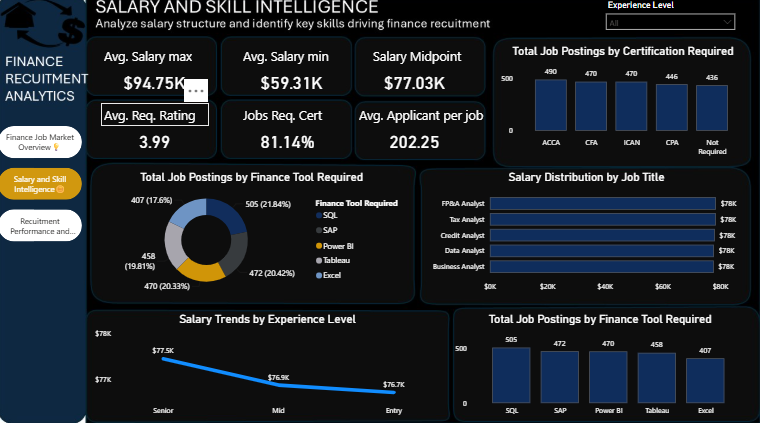

The dashboard page shown, as its layout file describes it:
{"tool":"powerbi","page":{"name":"Salary and Skill Intelligence🪙","canvas":[1280,720],"ordinal":1},"visuals":[{"type":"pageNavigator","box":[0,216.7,141.1,196.5],"z":0},{"type":"lineChart","title":"Salary Trends by Experience Level","fields":{"Category":["Finance Dataset.Experience Level"],"Y":["Finance Dataset.salary midpoint"]},"box":[157.9,529.1,589.6,183.1],"z":1000},{"type":"clusteredColumnChart","fields":{"Y":["All Measures.Total Job Postings"],"Category":["Finance Dataset.Finance Tool Required"]},"box":[762.6,529.1,497.2,183.1],"z":2000},{"type":"clusteredBarChart","title":"Salary Distribution by Job Title","fields":{"Category":["Finance Dataset.Job Title"],"Y":["Finance Dataset.salary midpoint"]},"box":[717.3,290.6,542.6,213.3],"z":3000},{"type":"donutChart","fields":{"Category":["Finance Dataset.Finance Tool Required"],"Y":["All Measures.Total Job Postings"]},"box":[161.3,290.6,529.1,213.3],"z":4000},{"type":"clusteredColumnChart","fields":{"Category":["Finance Dataset.Certification Required"],"Y":["All Measures.Total Job Postings"]},"box":[839.9,79,419.9,196.5],"z":5000},{"type":"textbox","box":[406.5,79,161.3,43.7],"z":6000},{"type":"textbox","box":[173,79,181.4,43.7],"z":7000},{"type":"textbox","box":[624.9,79,178.1,43.7],"z":8000},{"type":"textbox","box":[173,178.1,181.4,38.6],"z":9000},{"type":"textbox","box":[406.5,178.1,176.4,38.6],"z":10000},{"type":"textbox","box":[601.4,178.1,225.1,38.6],"z":11000},{"type":"card","fields":{"Values":["All Measures.Avg. Max Salary"]},"box":[188.1,122.6,149.5,40.3],"z":12000},{"type":"card","fields":{"Values":["All Measures.Avg. Min Salary"]},"box":[418.3,122.6,149.5,40.3],"z":13000},{"type":"card","fields":{"Values":["Finance Dataset.salary midpoint"]},"box":[624.9,122.6,149.5,40.3],"z":14000},{"type":"card","fields":{"Values":["All Measures.Avg. Recuiter Rating"]},"box":[188.1,216.7,149.5,48.7],"z":15000},{"type":"card","fields":{"Values":["All Measures.% jobs recuiring certification"]},"box":[411.5,216.7,149.5,48.7],"z":16000},{"type":"card","fields":{"Values":["All Measures.Avg. Applicant per job"]},"box":[624.9,216.7,149.5,48.7],"z":17000},{"type":"slicer","fields":{"Values":["Finance Dataset.Experience Level"]},"box":[1011.2,0,236.9,57.1],"z":18000}]}

Visuals, with their boxes in screenshot pixels (x1, y1, x2, y2), scaled from the page's 1280x720 canvas onto the 760x423 screenshot:
pageNavigator: box=[0, 127, 84, 243]
"Salary Trends by Experience Level" lineChart: box=[94, 311, 444, 418]
clusteredColumnChart - All Measures.Total Job Postings x Finance Dataset.Finance Tool Required: box=[453, 311, 748, 418]
"Salary Distribution by Job Title" clusteredBarChart: box=[426, 171, 748, 296]
donutChart - Finance Dataset.Finance Tool Required x All Measures.Total Job Postings: box=[96, 171, 410, 296]
clusteredColumnChart - Finance Dataset.Certification Required x All Measures.Total Job Postings: box=[499, 46, 748, 162]
textbox: box=[241, 46, 337, 72]
textbox: box=[103, 46, 210, 72]
textbox: box=[371, 46, 477, 72]
textbox: box=[103, 105, 210, 127]
textbox: box=[241, 105, 346, 127]
textbox: box=[357, 105, 491, 127]
card - All Measures.Avg. Max Salary: box=[112, 72, 200, 96]
card - All Measures.Avg. Min Salary: box=[248, 72, 337, 96]
card - Finance Dataset.salary midpoint: box=[371, 72, 460, 96]
card - All Measures.Avg. Recuiter Rating: box=[112, 127, 200, 156]
card - All Measures.% jobs recuiring certification: box=[244, 127, 333, 156]
card - All Measures.Avg. Applicant per job: box=[371, 127, 460, 156]
slicer - Finance Dataset.Experience Level: box=[600, 0, 741, 34]
